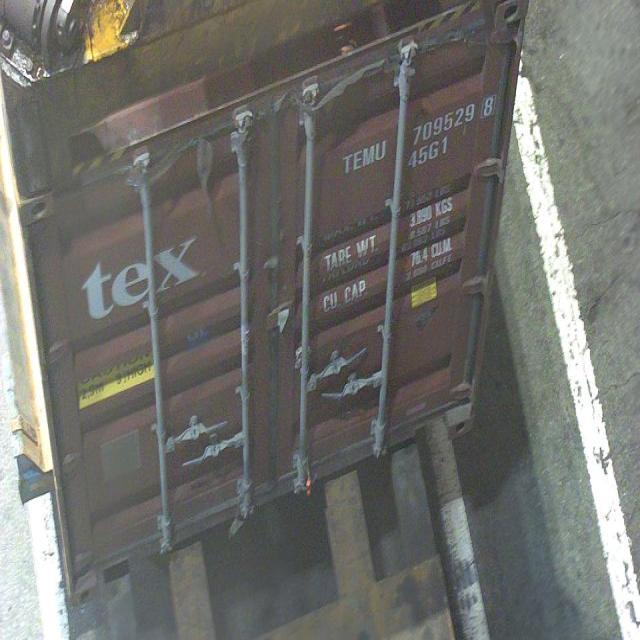ISO: (406, 134, 449, 172)
container_number: (342, 88, 498, 176)
